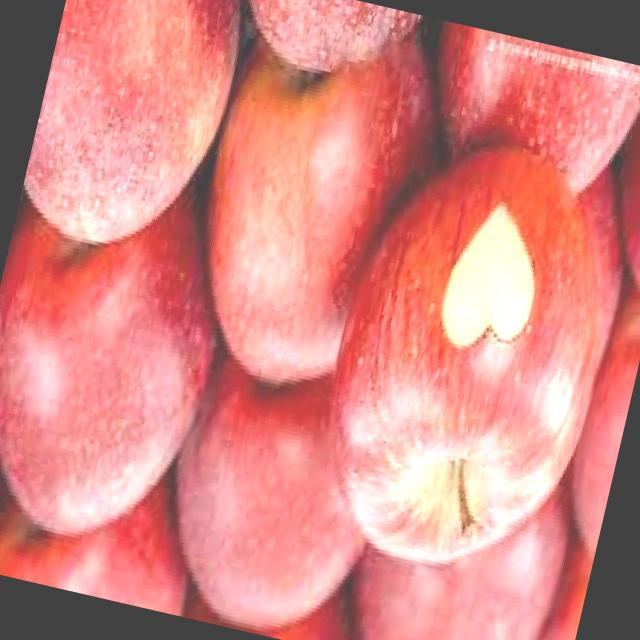Apple: (289, 120, 640, 594), (162, 7, 464, 414), (0, 180, 246, 563), (147, 338, 405, 640), (11, 0, 255, 274), (338, 441, 583, 640), (416, 21, 640, 206), (0, 453, 202, 615), (227, 0, 417, 92)
